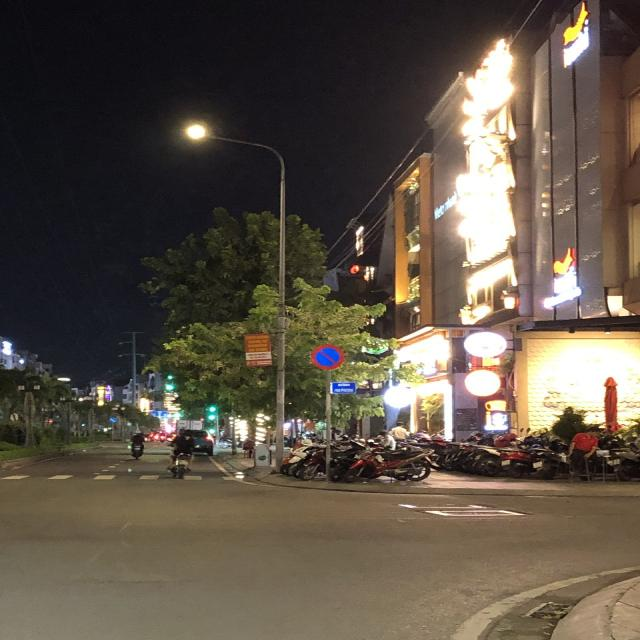Bien bao cam do xe: (309, 342, 347, 372)
